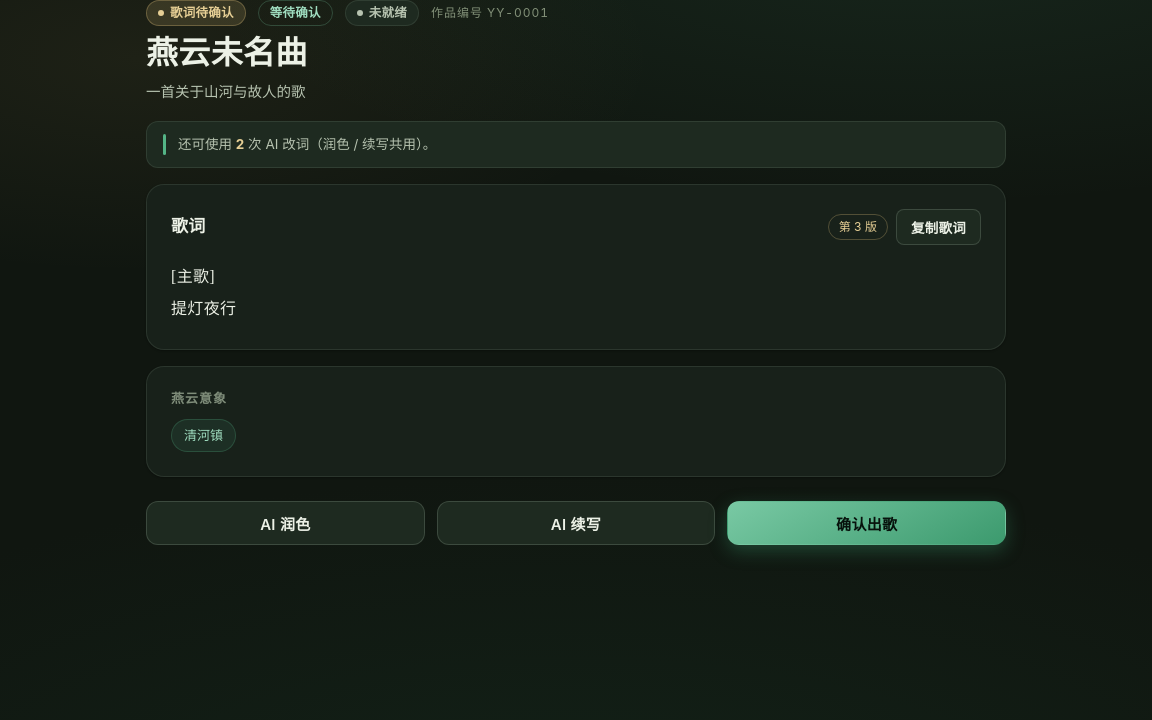
Test case: ConfirmView › keeps polish submit disabled until an instruction is provided
The width and height of the screenshot is (1152, 720).
Click the button "AI 润色" at coordinates (285, 523), box [146, 501, 425, 545]
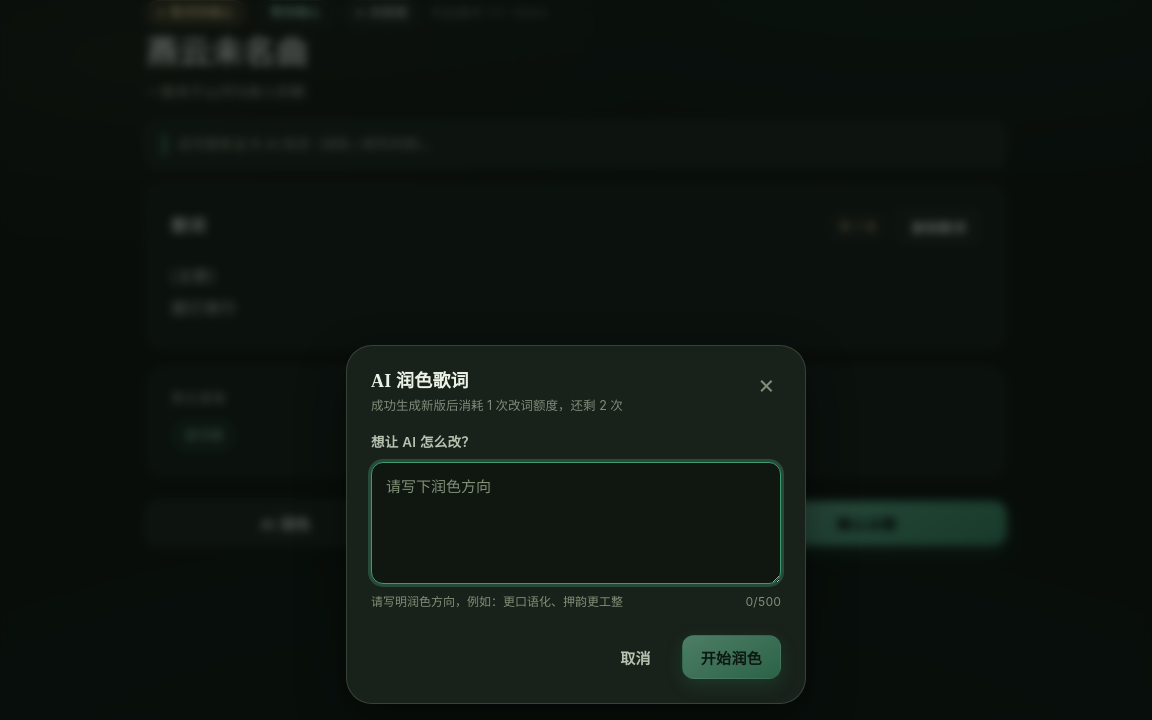
Expected: the button "开始润色" is disabled, [682, 635, 781, 679]
Type "更押韵一点" into the text box labelled "想让 AI 怎么改？ 请写明润色方向，例如：更口语化、押韵更工整 0/500" at coordinates (576, 523), box [371, 462, 781, 584]
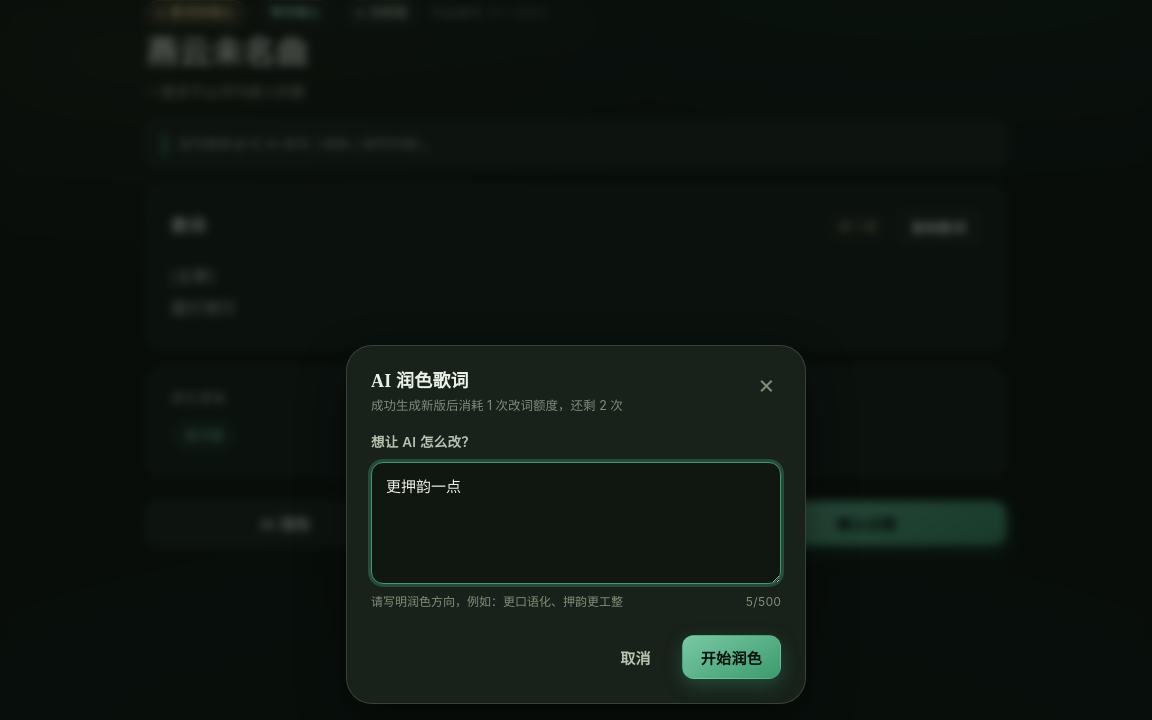
Expected: the button "开始润色" is enabled, [682, 635, 781, 679]
